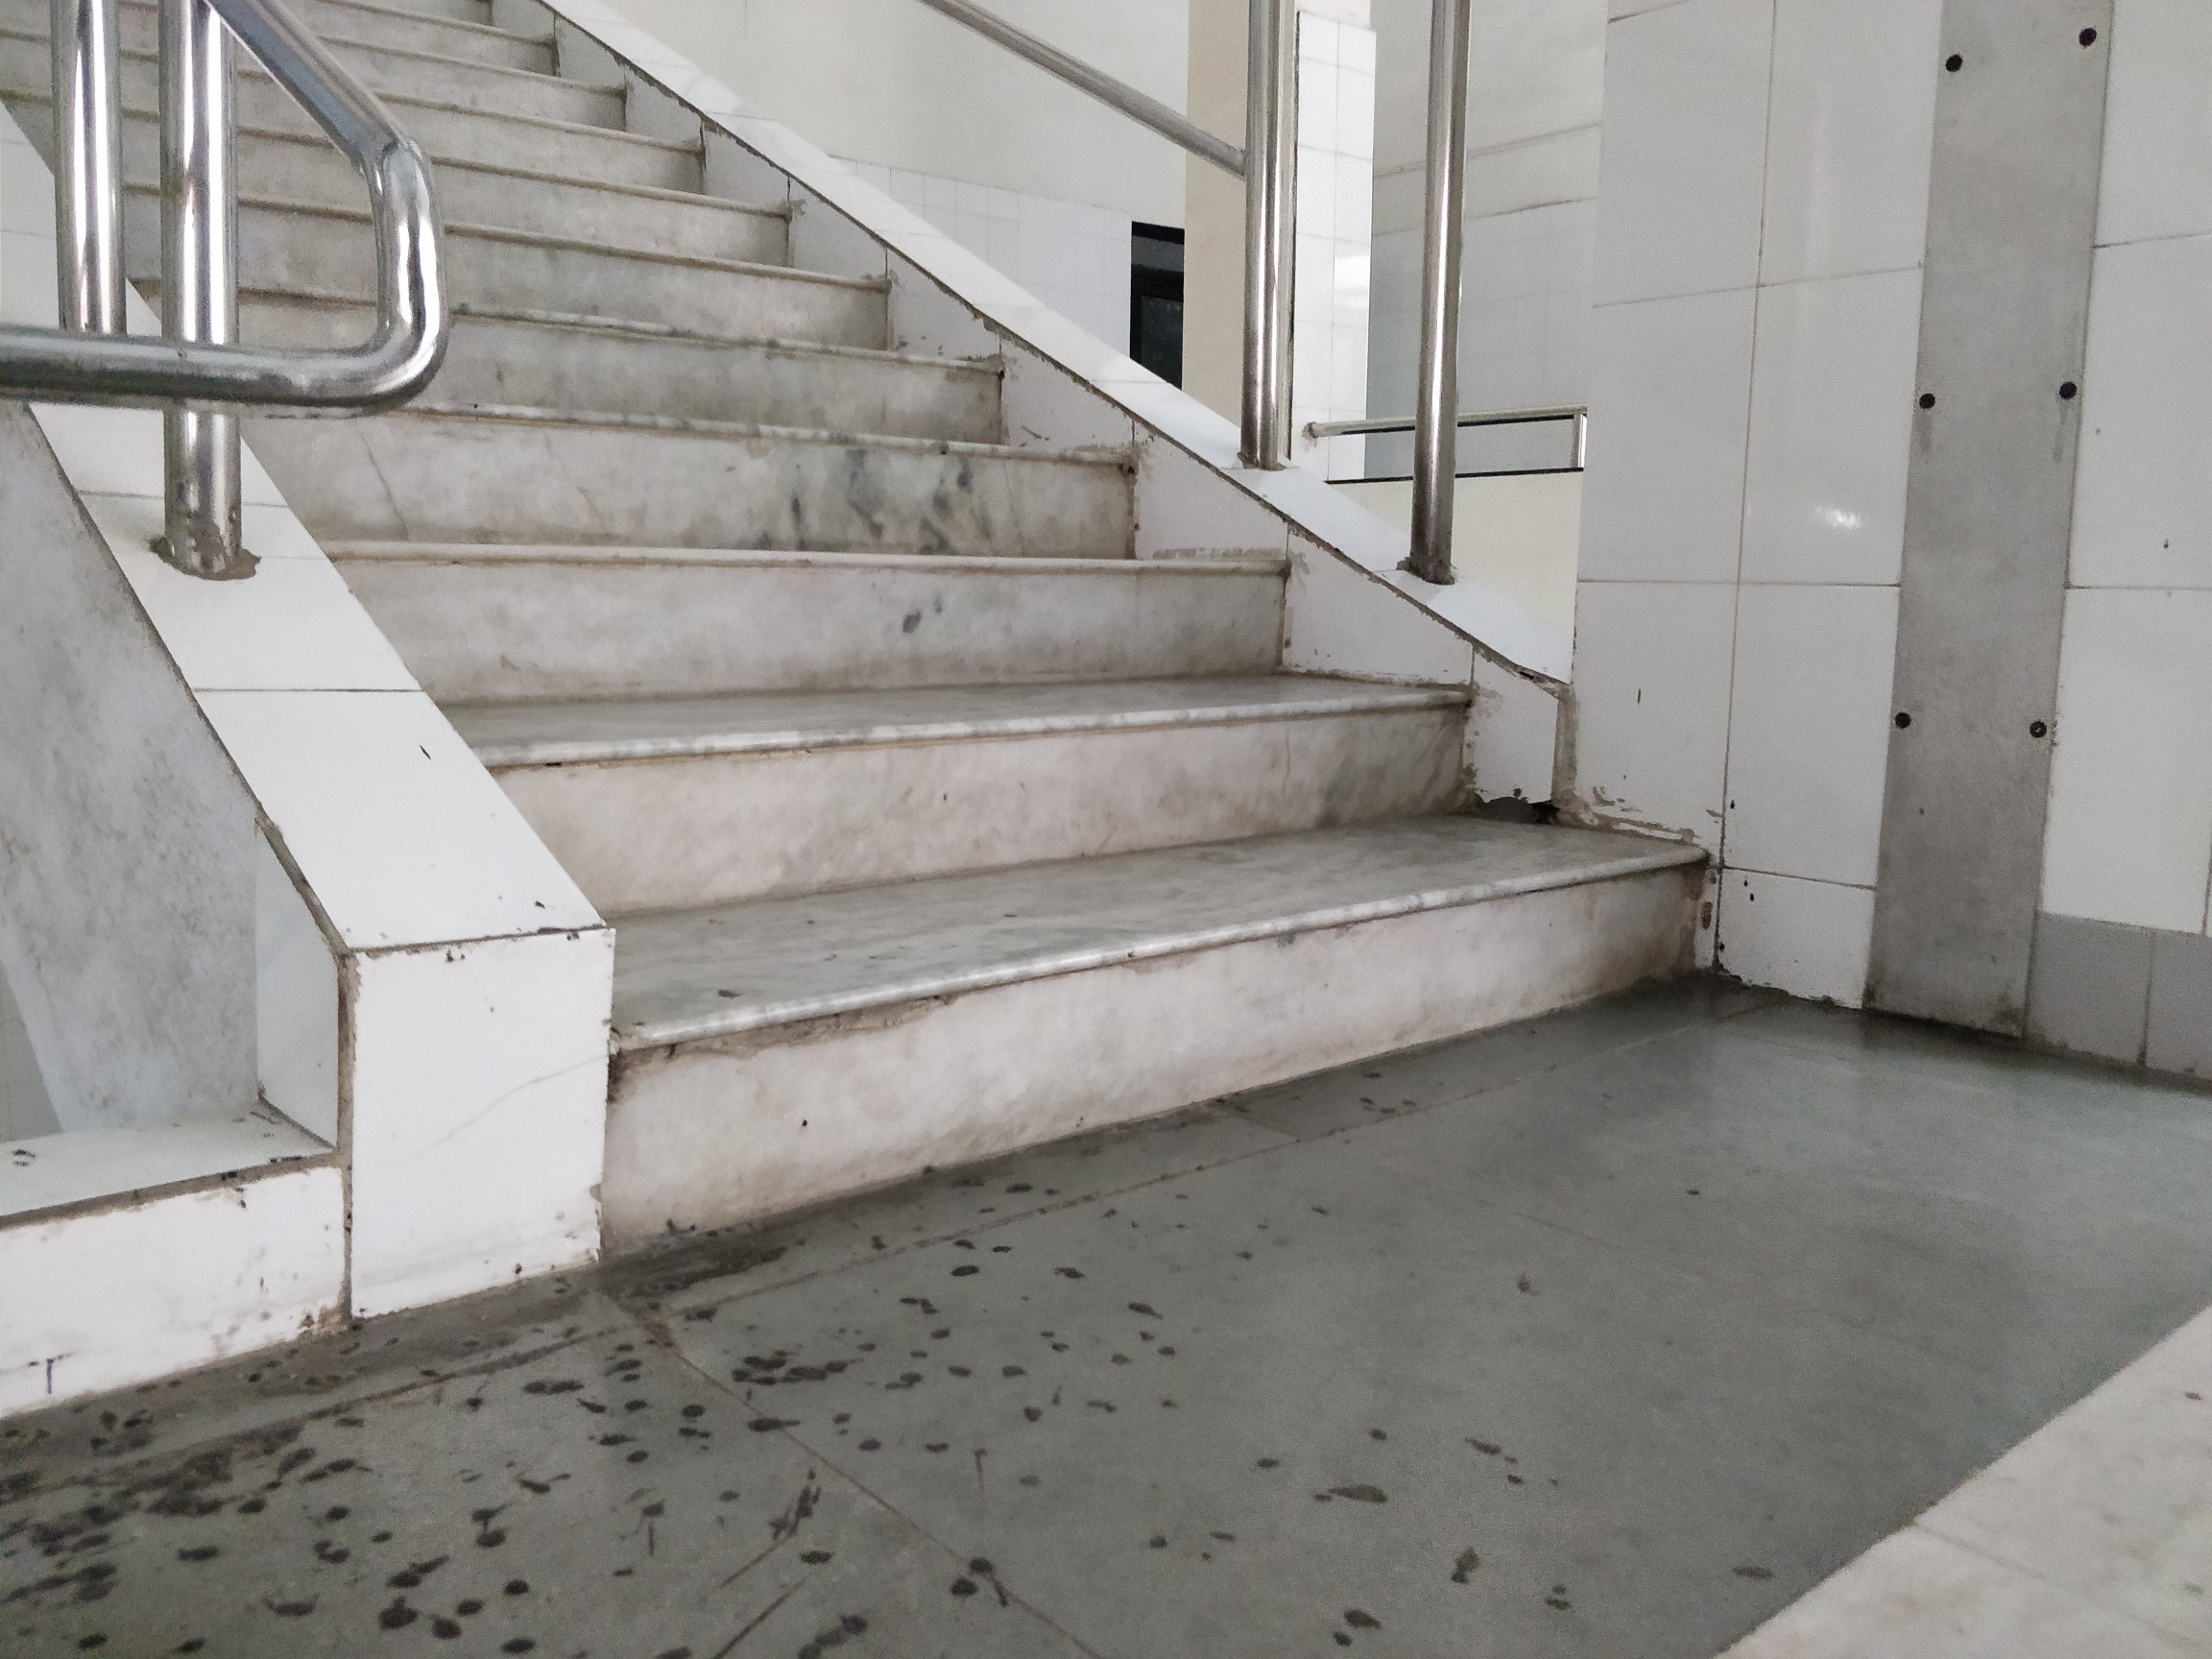stairs_up: (44, 5, 1747, 1021)
